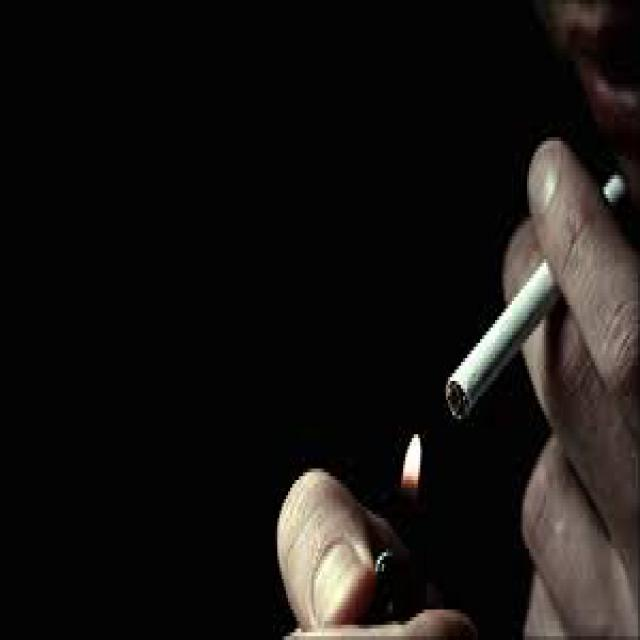fire: (392, 413, 437, 512)
